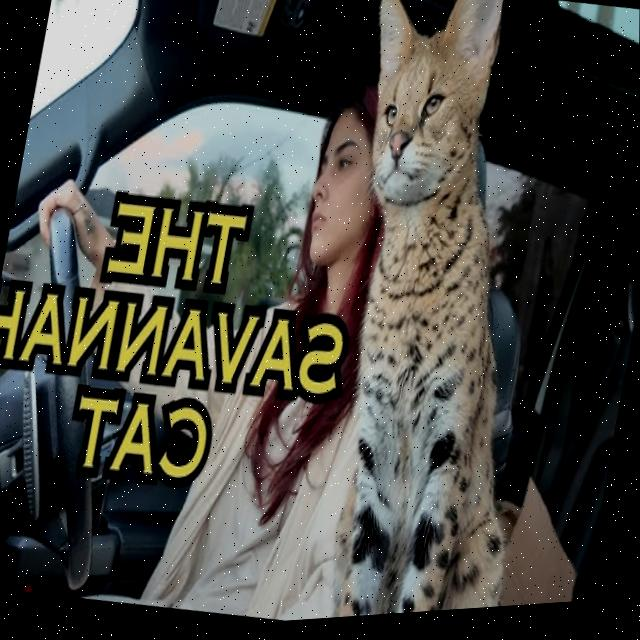Savannah: (268, 0, 609, 626)
